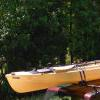Boat: (5, 58, 100, 94)
